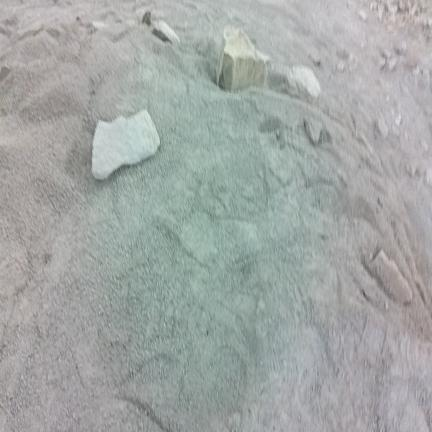Rock: (92, 110, 159, 179), (217, 26, 267, 90), (368, 250, 412, 304), (288, 66, 320, 97), (152, 20, 180, 44), (304, 119, 322, 145), (377, 111, 388, 138), (406, 162, 418, 178), (93, 21, 108, 31), (395, 42, 406, 55), (310, 54, 321, 67), (0, 67, 10, 81), (425, 167, 432, 186), (142, 11, 151, 25), (381, 49, 391, 60), (388, 58, 396, 71), (358, 10, 367, 21), (336, 60, 344, 72), (378, 57, 386, 68), (395, 114, 401, 127), (421, 140, 428, 151)
